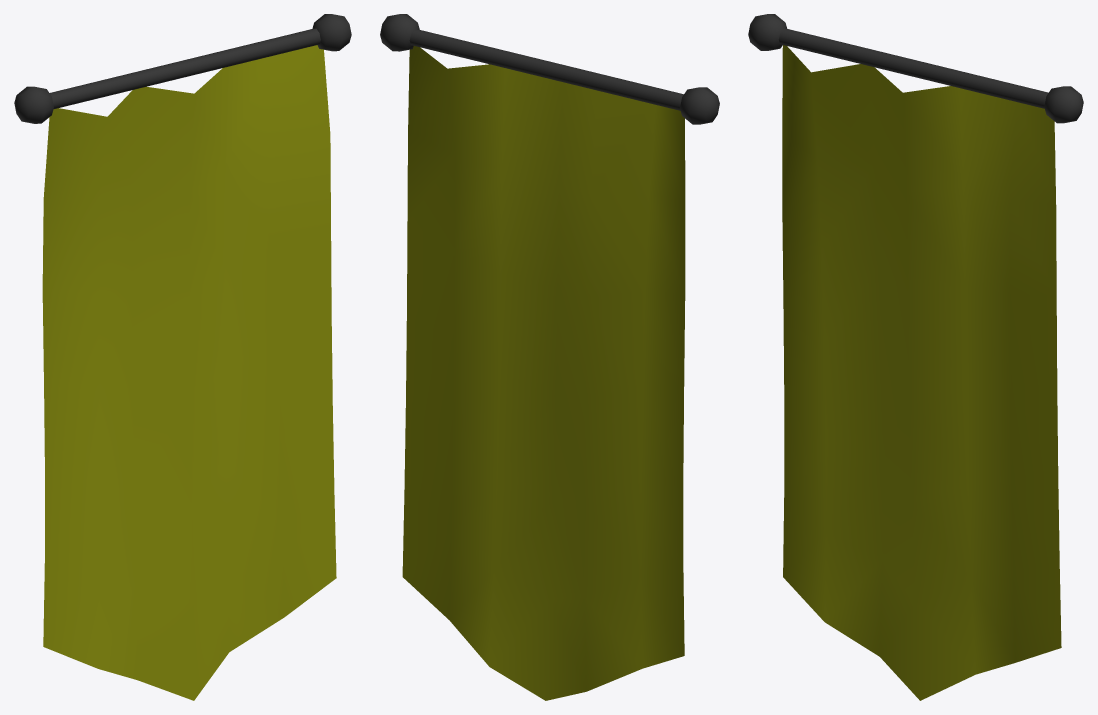
Rendered from Wall_Banner_2.fbx.
3 renders of one model, left to right at view 1: azimuth 30°, elevation 25°; view 2: azimuth 150°, elevation 25°; view 3: azimuth 330°, elevation 25°, orthographic.
Parts seen in each view (by area): view 1: 1_Wall_Banner_2; view 2: 1_Wall_Banner_2; view 3: 1_Wall_Banner_2.
Part boxes in pixels (bbox=[...]): 1_Wall_Banner_2: bbox=[14, 14, 351, 700]; 1_Wall_Banner_2: bbox=[380, 14, 719, 700]; 1_Wall_Banner_2: bbox=[748, 14, 1083, 700].
Bounding box in the file's own units: 76.52 × 143 × 10.01.
